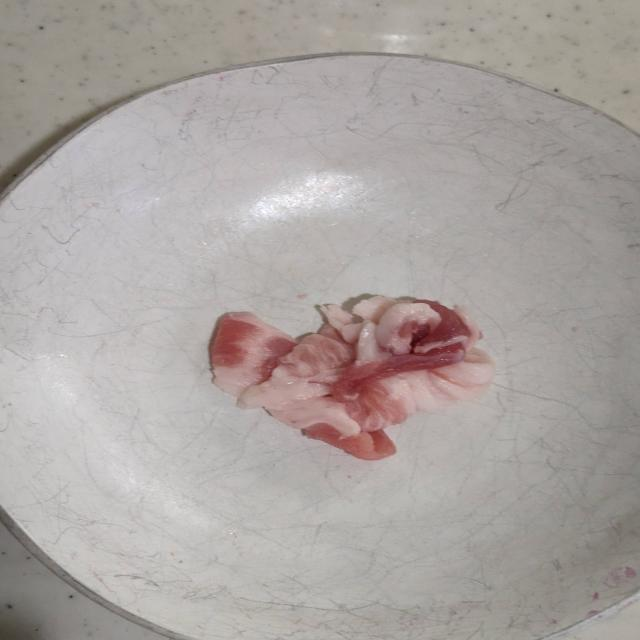NG raw pork,: (197, 294, 504, 473)
